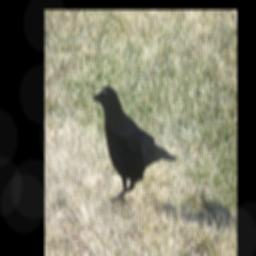Crow: (90, 82, 175, 202)
